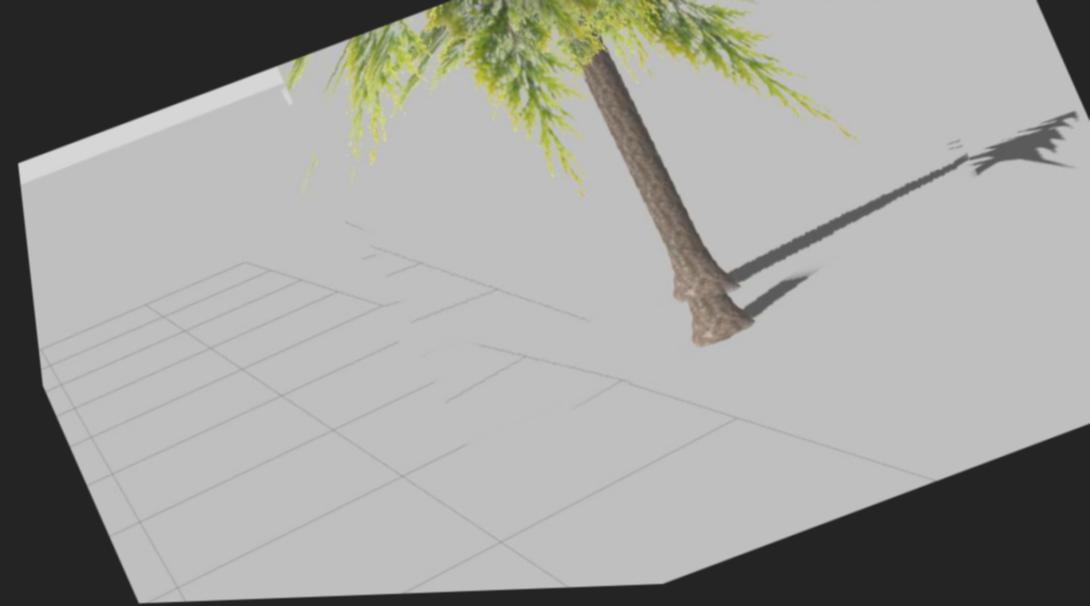tree_gazebo: (288, 0, 818, 313)
